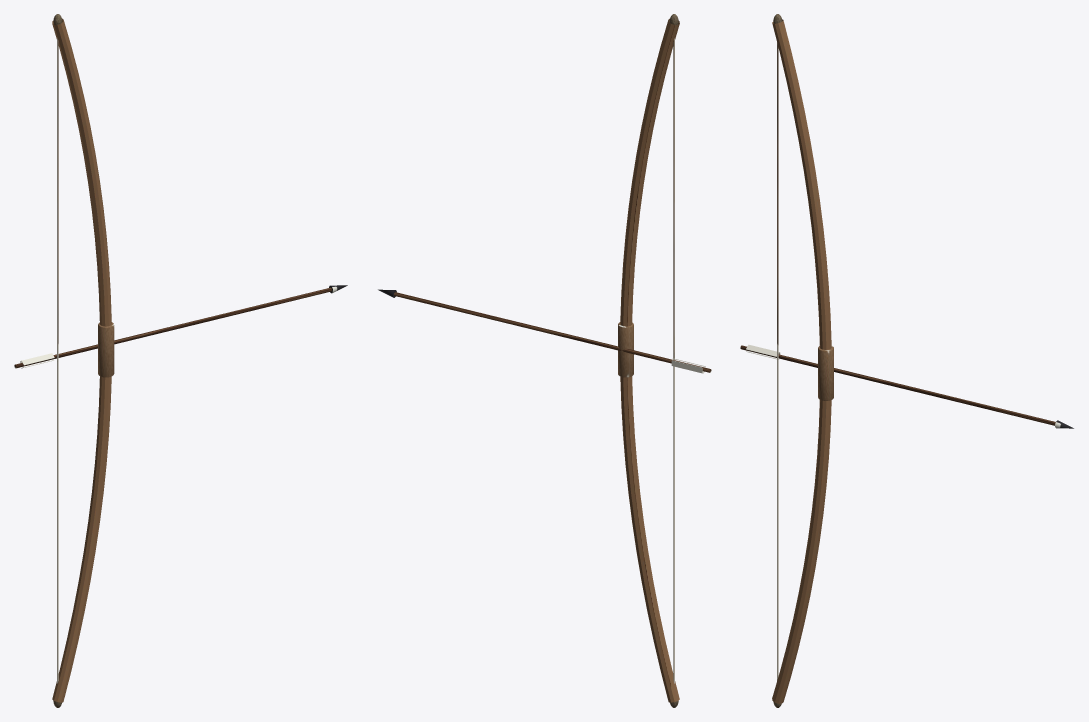
File: longbow.glb
3 renders of one model, left to right at view 1: azimuth 30°, elevation 25°; view 2: azimuth 150°, elevation 25°; view 3: azimuth 330°, elevation 25°, orthographic.
Visible parts, largest first — view 1: stave, arrow, grip_wrap, string_up, string_dn; view 2: stave, arrow, grip_wrap, string_up, string_dn; view 3: stave, arrow, grip_wrap, string_dn, string_up.
Part boxes in pixels (x1,y1,x2,y2): stave: (52, 18, 111, 702); arrow: (14, 287, 331, 368); grip_wrap: (98, 322, 114, 377); string_up: (57, 38, 58, 361); string_dn: (57, 361, 58, 683); stave: (620, 18, 679, 702); arrow: (394, 292, 711, 372); grip_wrap: (618, 322, 633, 377); string_up: (673, 38, 674, 359); string_dn: (673, 366, 674, 683); stave: (772, 19, 831, 703); arrow: (740, 345, 1055, 425); grip_wrap: (818, 346, 833, 400); string_dn: (777, 361, 778, 680); string_up: (777, 42, 778, 361).
Bounding box in the file's own units: 0.76 × 1.51 × 0.036.
Materials: 1 (1 with a texture image).
